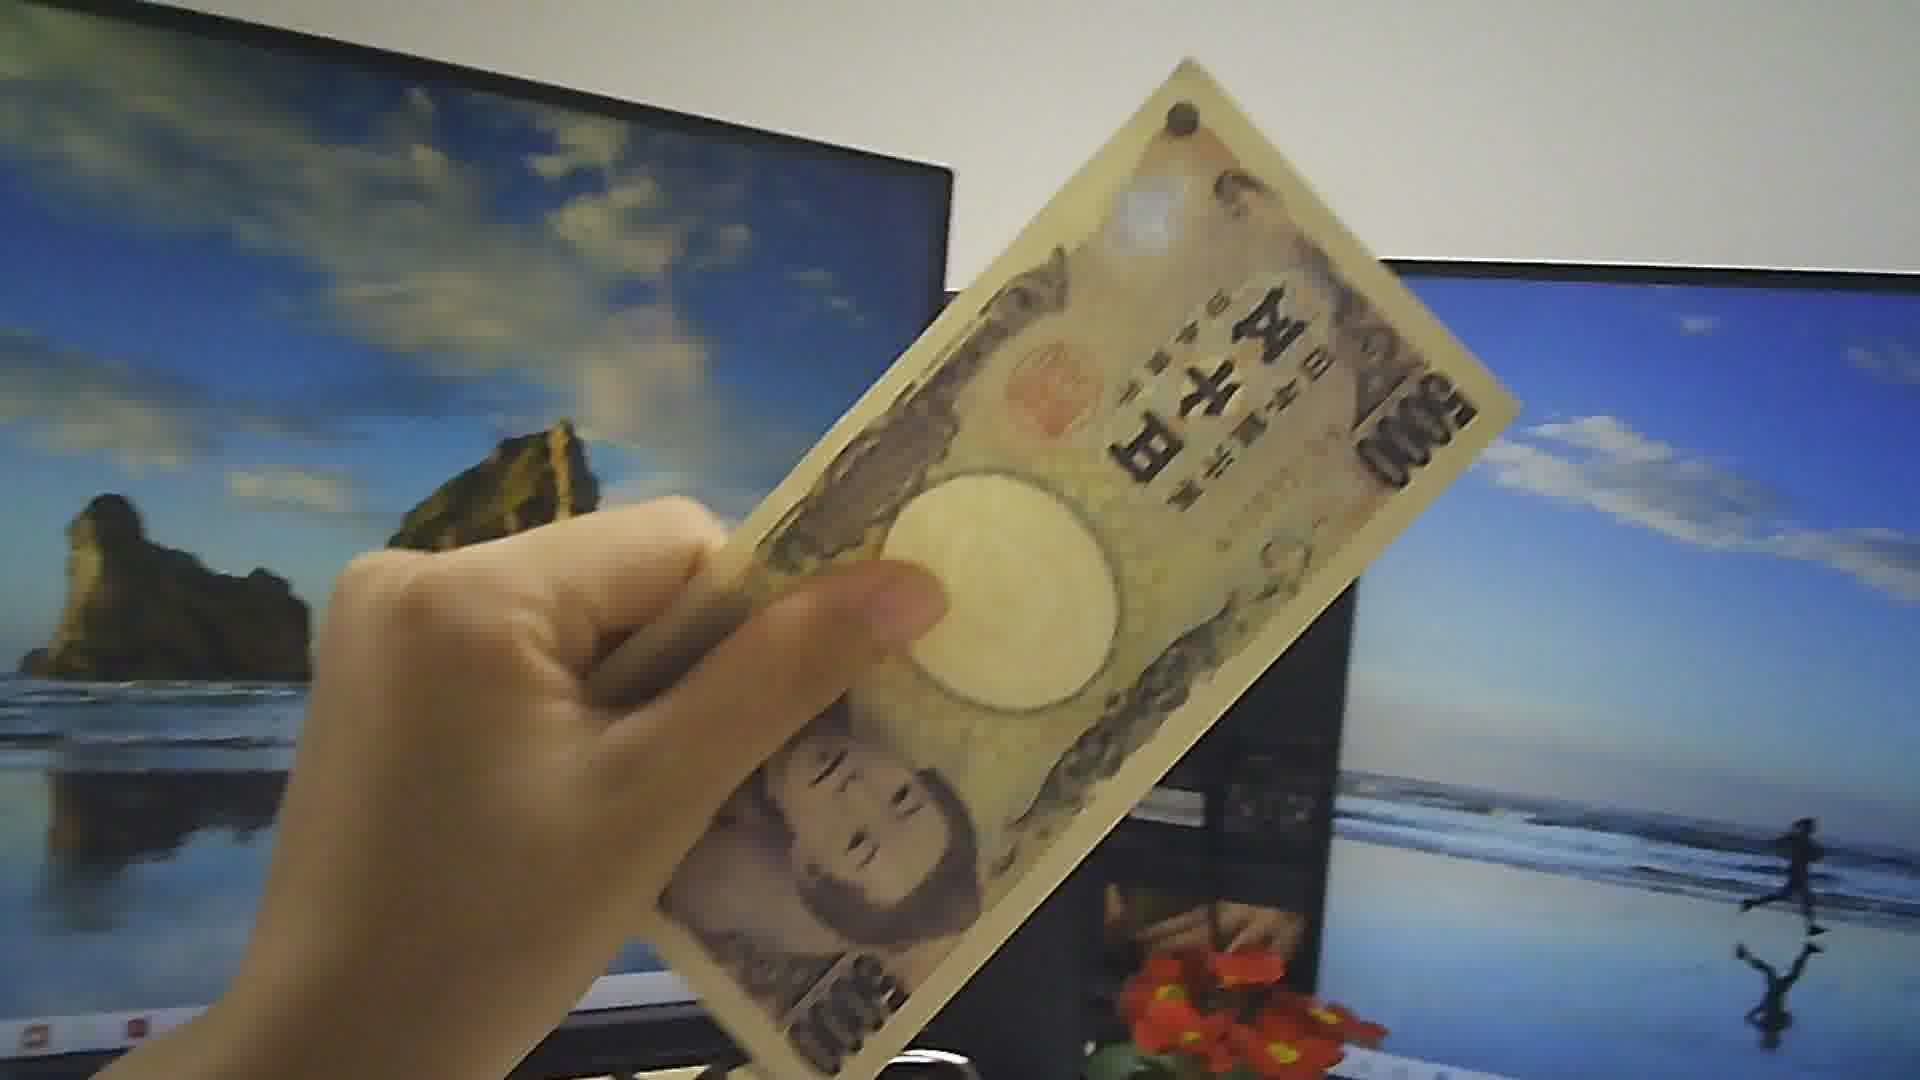5,000 Yen: (547, 49, 1516, 1079)
